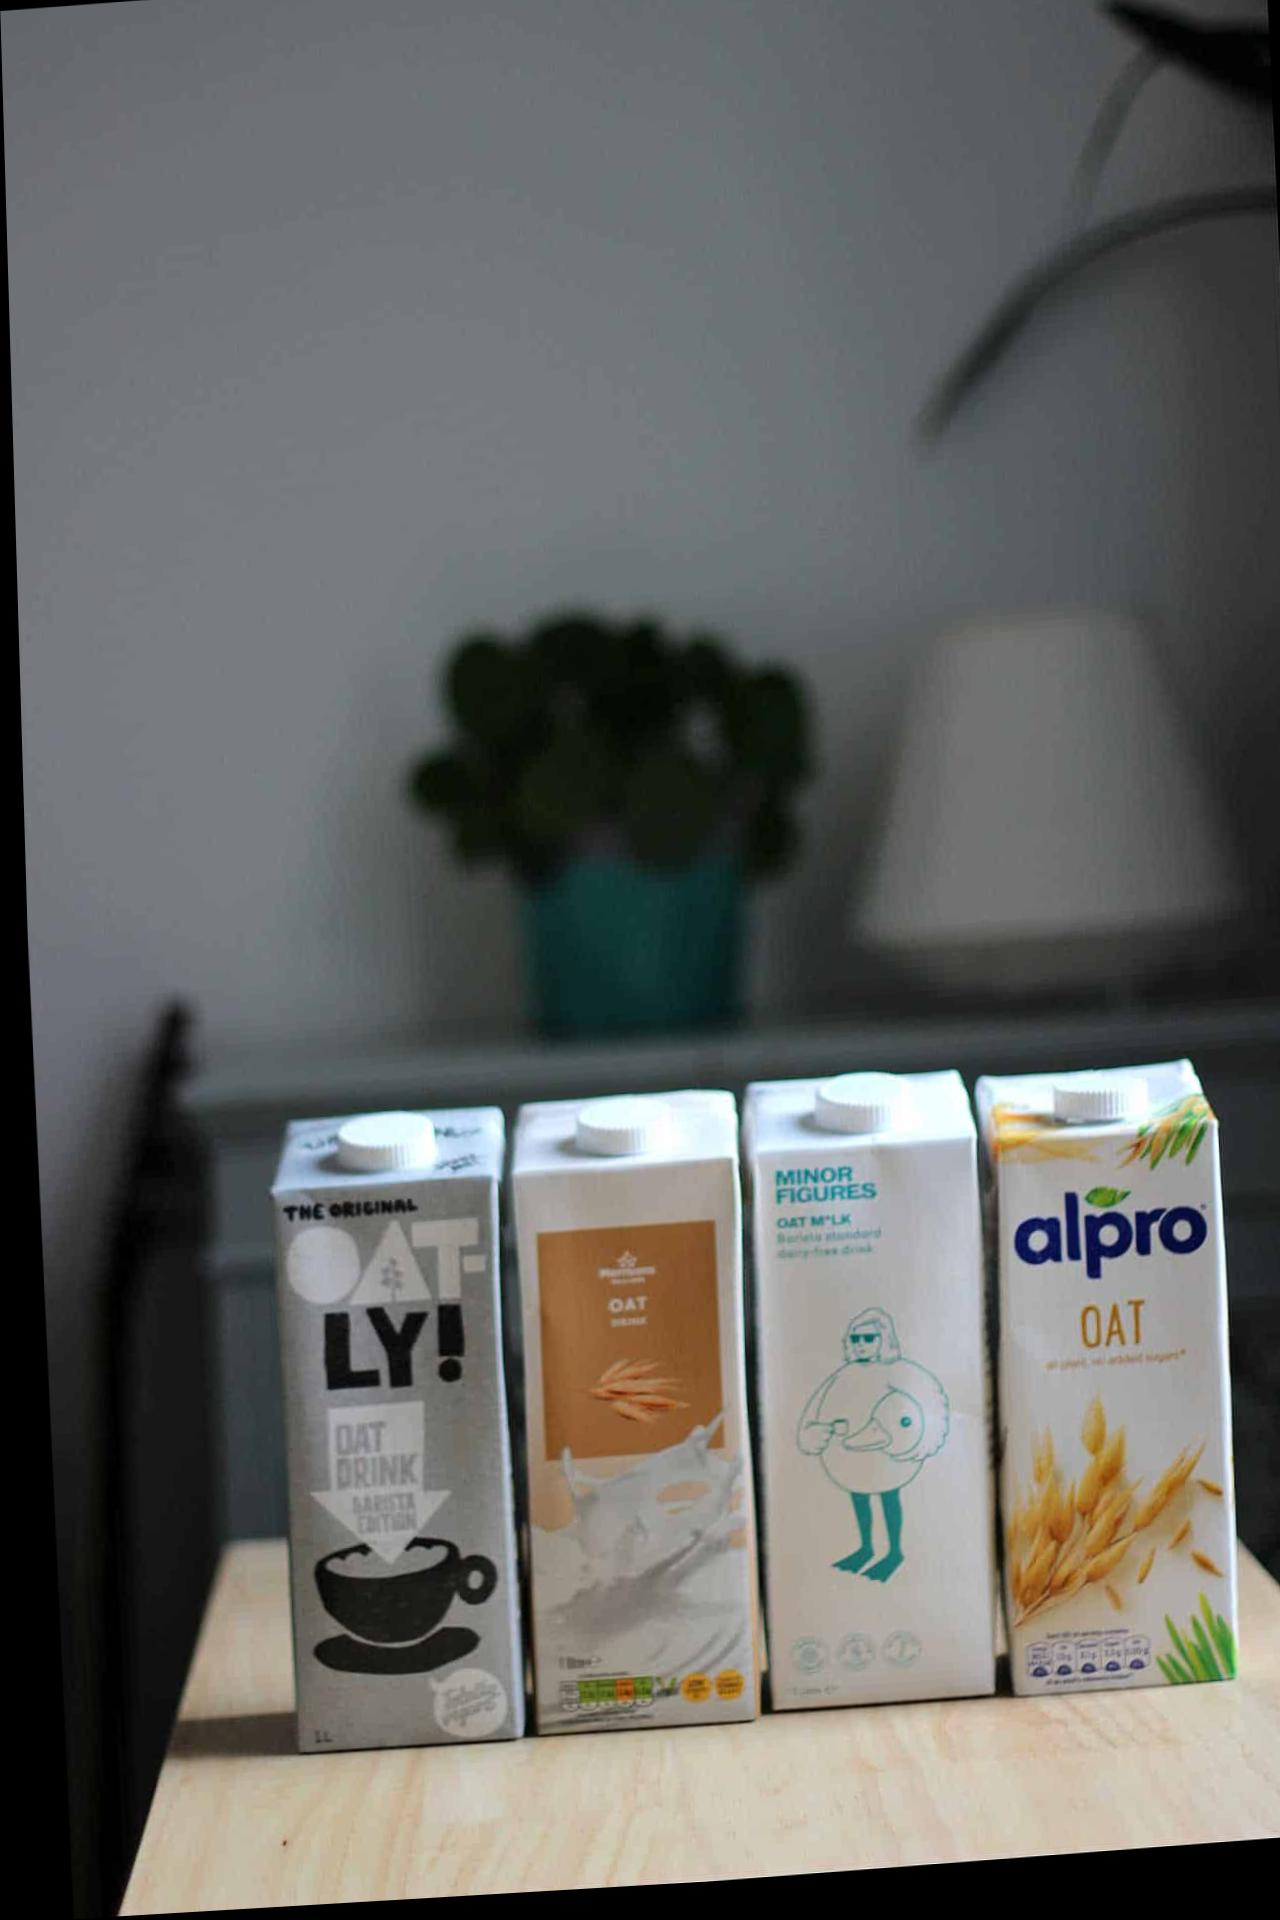cardboard: (261, 1074, 533, 1759), (736, 1059, 1011, 1719), (973, 1053, 1244, 1713), (506, 1079, 774, 1734)
